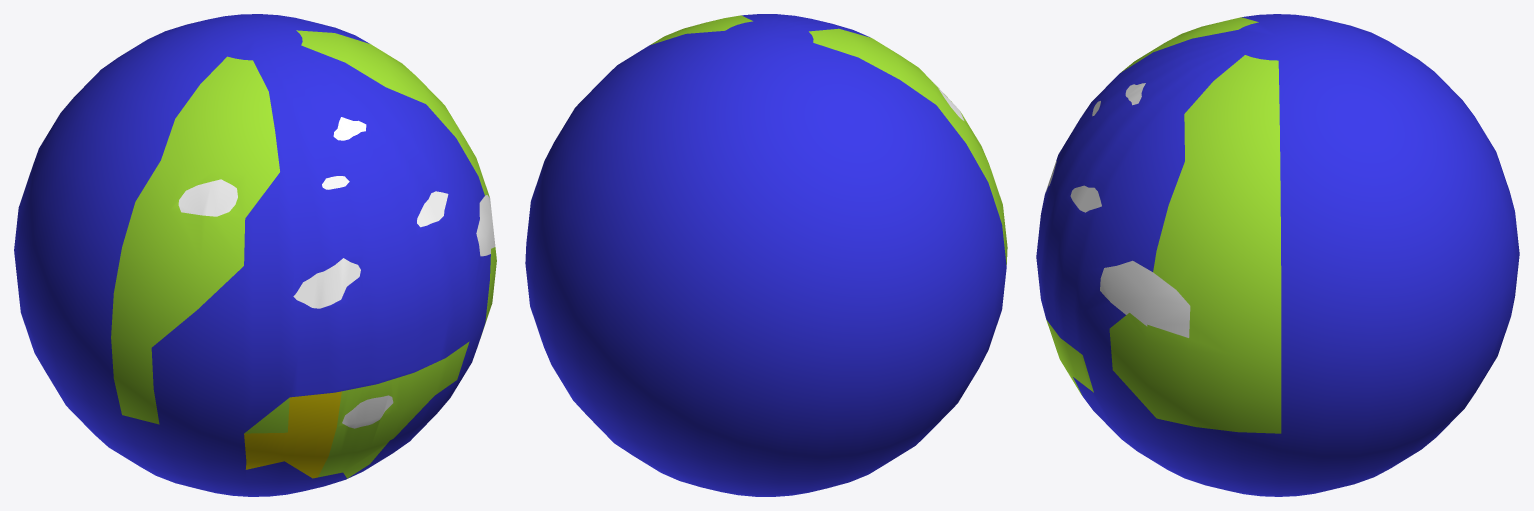
The model's file is world.fbx.
3 renders of one model, left to right at view 1: azimuth 30°, elevation 25°; view 2: azimuth 150°, elevation 25°; view 3: azimuth 270°, elevation 25°, orthographic.
Parts seen in each view (by area): view 1: Sphere; view 2: Sphere; view 3: Sphere.
Part boxes in pixels (x1,y1,x2,y2): Sphere: (14, 14, 496, 496); Sphere: (525, 14, 1007, 496); Sphere: (1036, 14, 1519, 496).
Size of the model in its own units: 200 by 200 by 200.
